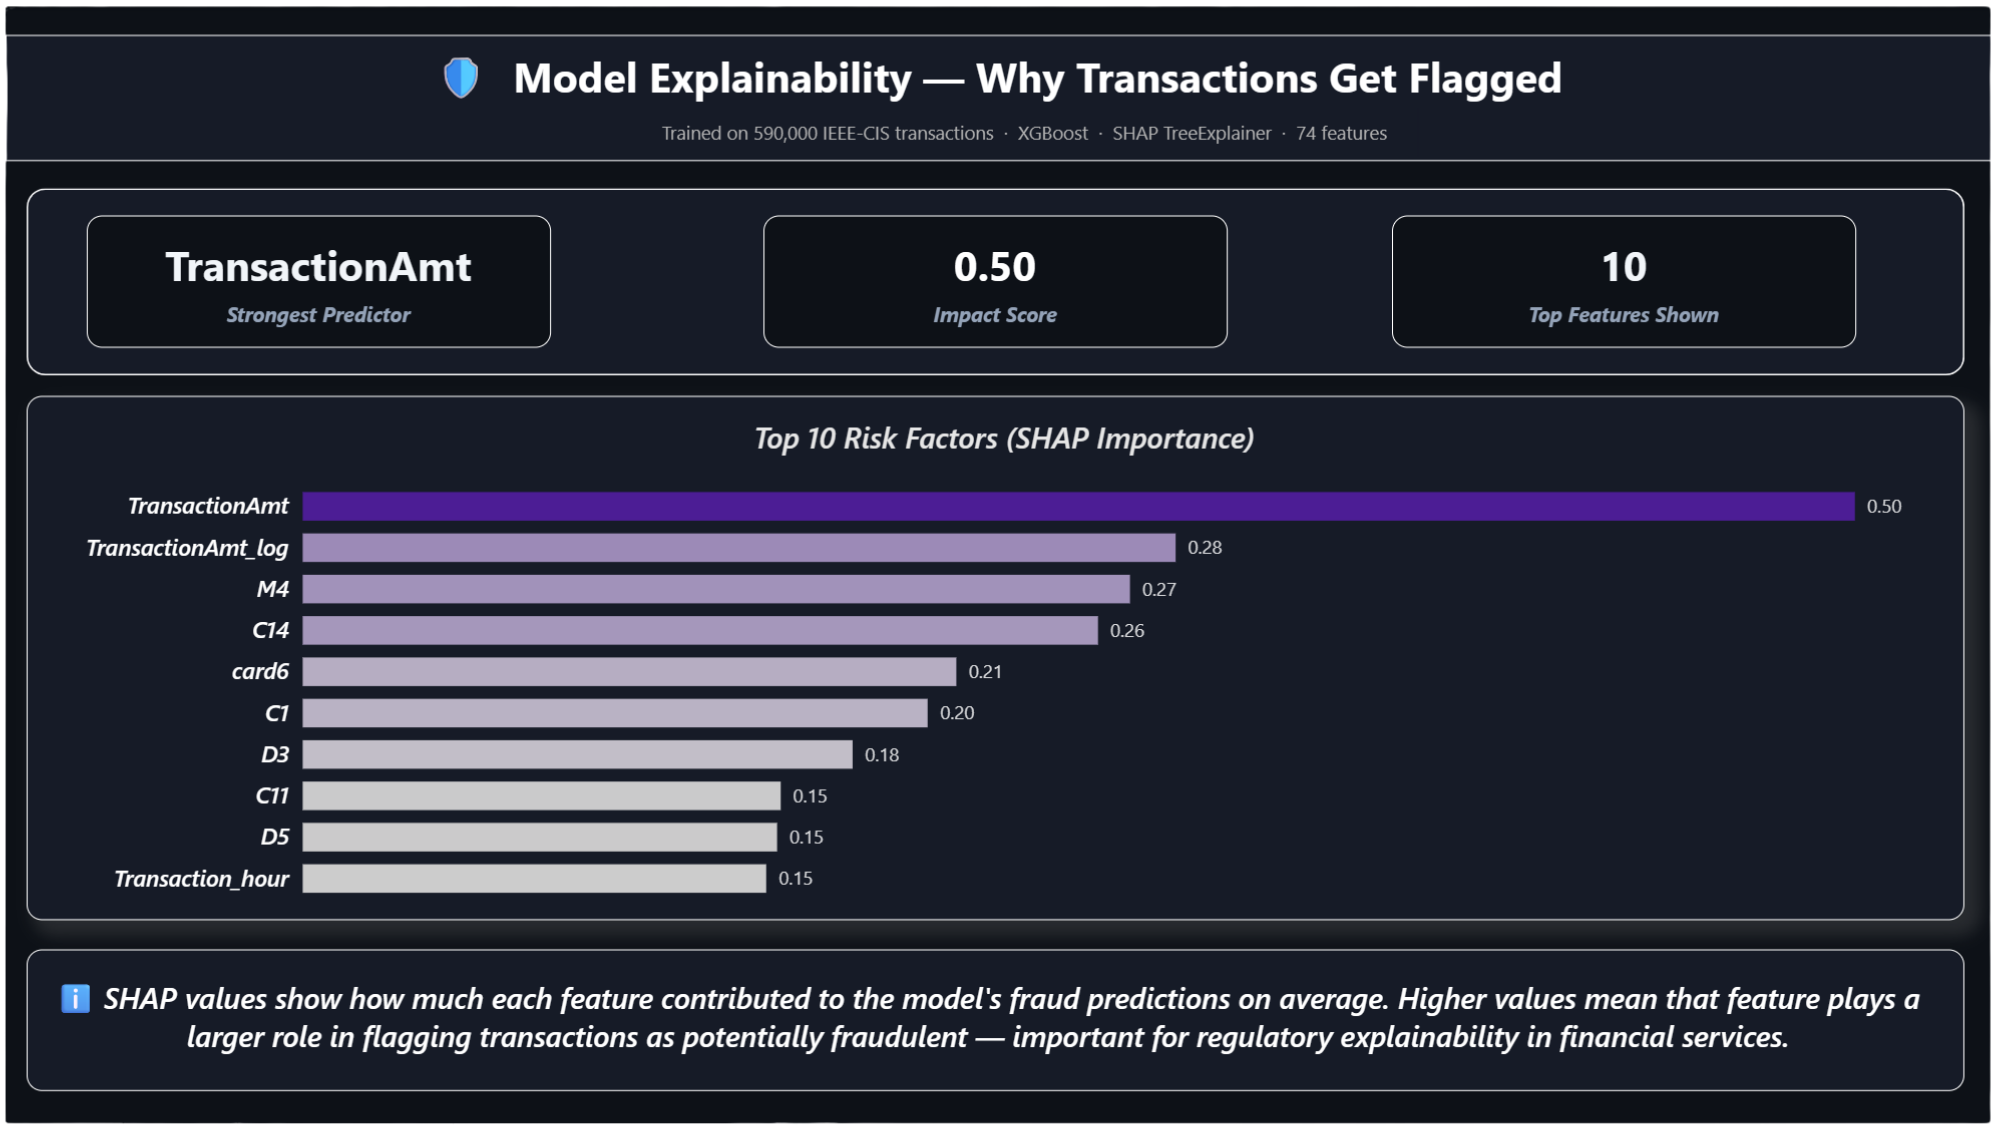

Layout of this report page (visuals, bound fields, positions):
{"tool":"powerbi","page":{"name":"Duplicate of Transaction Explore","canvas":[1280,720],"ordinal":2},"visuals":[{"type":"textbox","box":[0,18.7,1280.6,81.1],"z":0},{"type":"shape","box":[13.5,117.5,1249.5,120.6],"z":1000},{"type":"card","fields":{"Values":["shap_feature_importance.Top Feature Score"]},"box":[488.6,135.1,299.4,85.2],"z":3000},{"type":"card","fields":{"Values":["shap_feature_importance.Top Feature"]},"box":[52,135.1,299.4,85.2],"z":4000},{"type":"card","fields":{"Values":["shap_feature_importance.Features Analyzed"]},"box":[893.9,135.1,299.4,85.2],"z":6000},{"type":"barChart","title":"Top 10 Risk Factors (SHAP Importance)","fields":{"Y":["Sum(shap_feature_importance.mean_abs_shap)"],"Category":["shap_feature_importance.feature"]},"box":[13.5,251.6,1249.5,337.8],"z":11000},{"type":"textbox","box":[13.5,608.1,1249.5,91.5],"z":16001},{"type":"textbox","box":[403,66,507.3,31.2],"z":16002}]}

Visuals, with their boxes in screenshot pixels (x1, y1, x2, y2), scaled from the page's 1280x720 canvas onto the 1996x1129 screenshot:
textbox: <bbox>0, 29, 1995, 156</bbox>
shape: <bbox>21, 184, 1969, 373</bbox>
card - shap_feature_importance.Top Feature Score: <bbox>762, 212, 1229, 345</bbox>
card - shap_feature_importance.Top Feature: <bbox>81, 212, 548, 345</bbox>
card - shap_feature_importance.Features Analyzed: <bbox>1394, 212, 1861, 345</bbox>
"Top 10 Risk Factors (SHAP Importance)" barChart: <bbox>21, 395, 1969, 924</bbox>
textbox: <bbox>21, 954, 1969, 1097</bbox>
textbox: <bbox>628, 103, 1419, 152</bbox>
